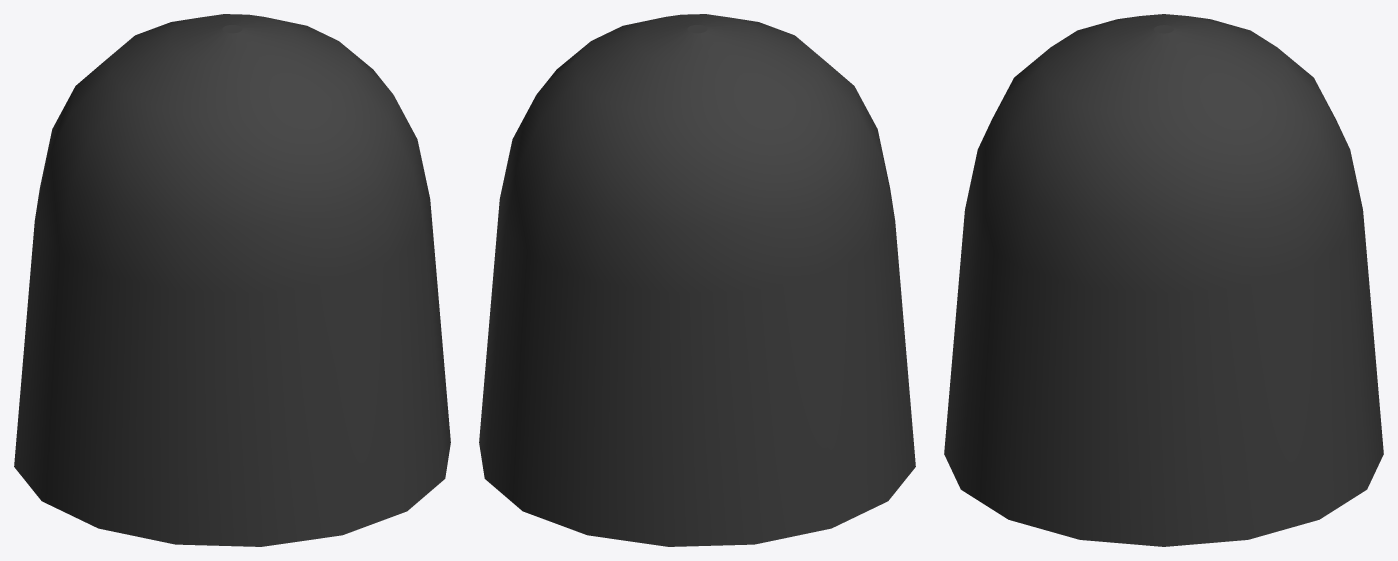
3 renders of one model, left to right at view 1: azimuth 30°, elevation 25°; view 2: azimuth 150°, elevation 25°; view 3: azimuth 270°, elevation 25°, orthographic.
Visible parts, largest first — view 1: a2464775f901_1_pCylinder1.obj; view 2: a2464775f901_1_pCylinder1.obj; view 3: a2464775f901_1_pCylinder1.obj.
Boxes of the visible parts, box(x1,y1,x2,y2) form: a2464775f901_1_pCylinder1.obj: box(14, 14, 450, 546); a2464775f901_1_pCylinder1.obj: box(479, 14, 915, 546); a2464775f901_1_pCylinder1.obj: box(944, 14, 1383, 546).
Size of the model in its own units: 0.1105 by 0.1177 by 0.1105.
Materials: 1 (1 with a texture image).
